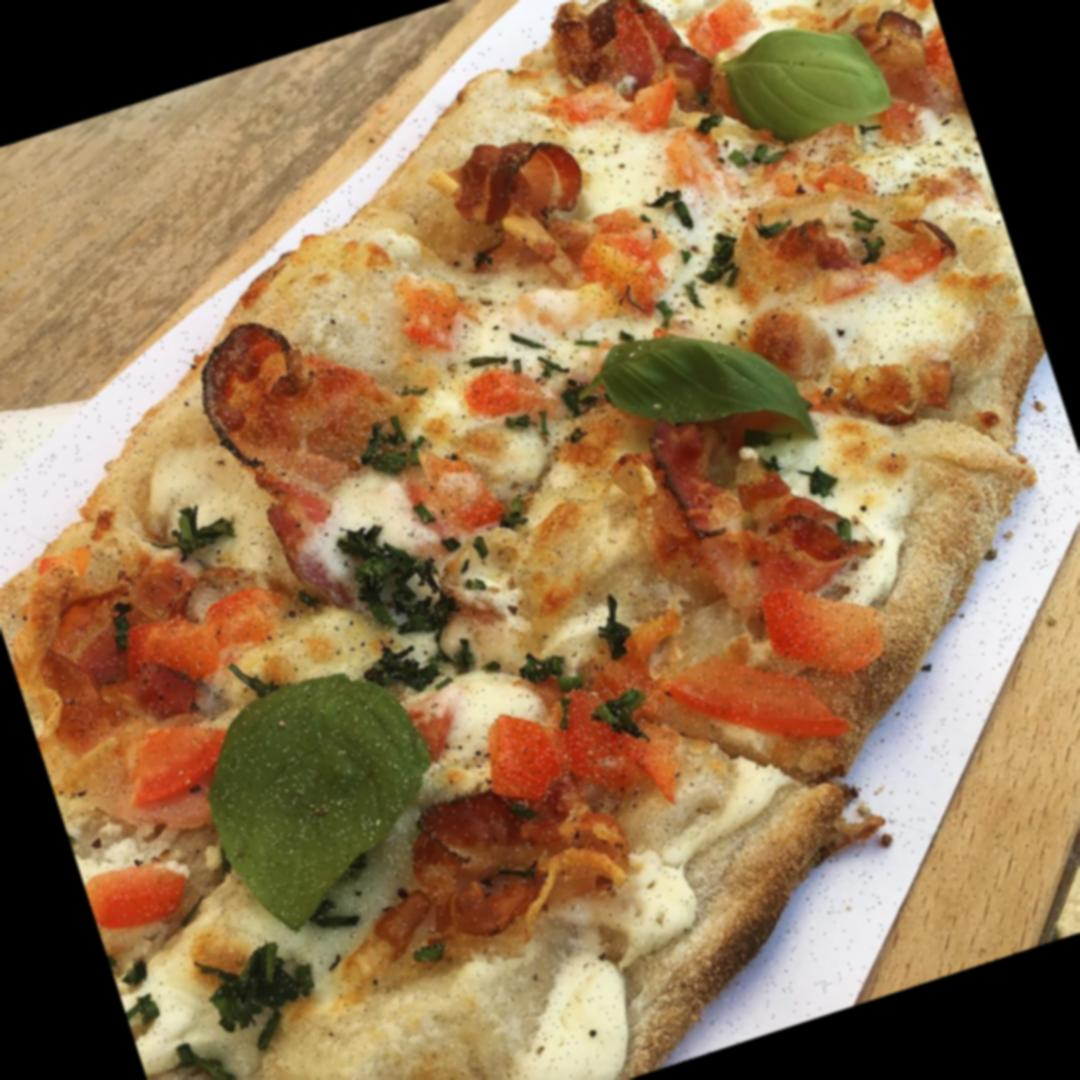Basil: (184, 654, 472, 946), (590, 294, 824, 496), (714, 1, 898, 159)
Ham: (180, 290, 403, 517), (448, 125, 591, 242), (545, 0, 685, 107)
Pizza: (0, 0, 1080, 1080)
Tomatoes: (664, 618, 850, 784), (480, 666, 683, 818), (752, 562, 898, 700), (116, 582, 288, 694), (118, 706, 240, 812), (576, 219, 677, 320), (82, 850, 193, 937), (419, 432, 506, 536), (387, 262, 476, 357), (460, 352, 550, 426), (549, 73, 626, 137), (681, 0, 764, 55), (620, 76, 690, 134), (916, 24, 963, 102)
